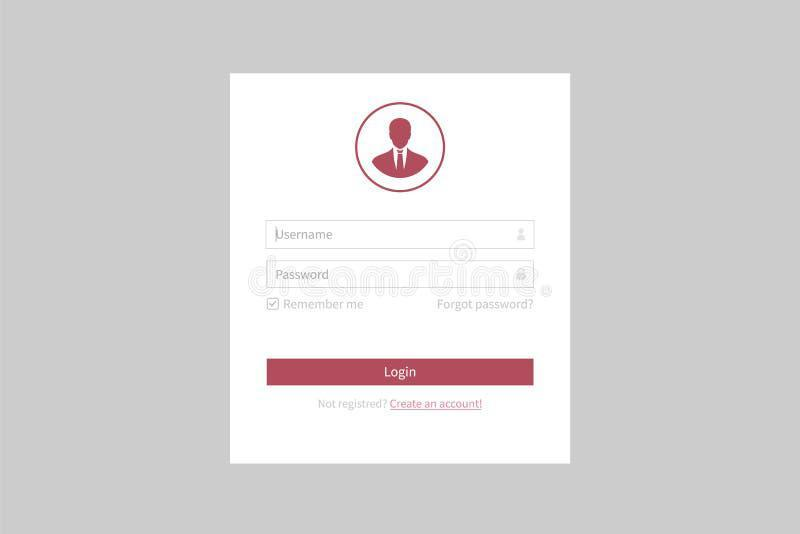button: (267, 360, 535, 386)
checkbox: (268, 298, 281, 312)
input: (266, 220, 533, 250), (268, 261, 534, 290)
label: (284, 298, 366, 311)
